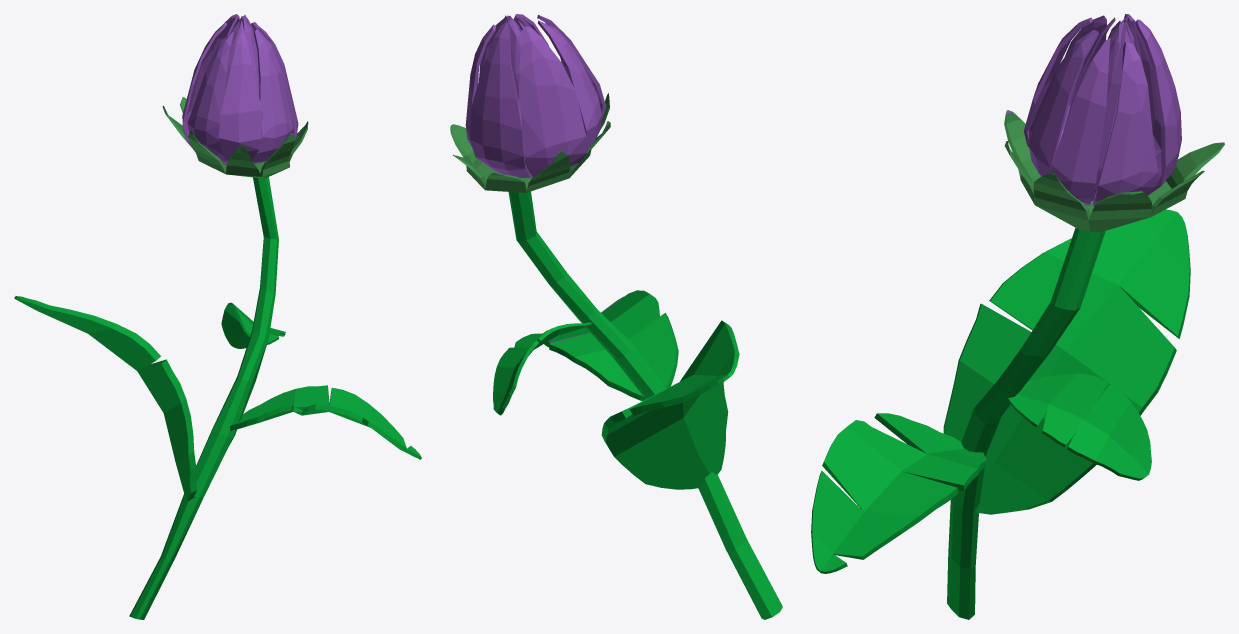
File: Tulips_Niederlande_World_Kloiber.fbx
3 renders of one model, left to right at view 1: azimuth 30°, elevation 25°; view 2: azimuth 150°, elevation 25°; view 3: azimuth 270°, elevation 25°, orthographic. The views are drawn at different scales.
Parts seen in each view (by area): view 1: Tulip_blue_06; view 2: Tulip_blue_06; view 3: Tulip_blue_06.
Boxes of the visible parts, bbox=[...] form: Tulip_blue_06: bbox=[14, 14, 421, 619]; Tulip_blue_06: bbox=[450, 14, 782, 619]; Tulip_blue_06: bbox=[811, 14, 1224, 619].
Size of the model in its own units: 0.3743 by 0.6738 by 0.3574.
